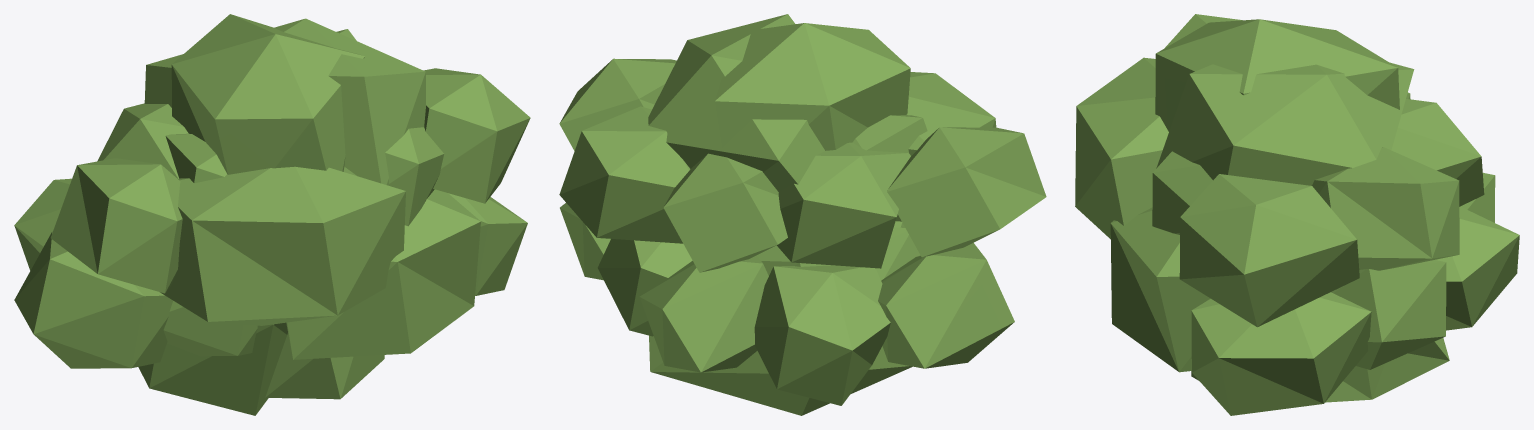
The model's file is Vegetation_Bush_Large_03.fbx.
3 renders of one model, left to right at view 1: azimuth 30°, elevation 25°; view 2: azimuth 150°, elevation 25°; view 3: azimuth 270°, elevation 25°, orthographic. The views are drawn at different scales.
Parts seen in each view (by area): view 1: Vegetation_Bush_Large_03; view 2: Vegetation_Bush_Large_03; view 3: Vegetation_Bush_Large_03.
Part boxes in pixels (left/top/right/bottom): Vegetation_Bush_Large_03: left=14, top=14, right=530, bottom=415; Vegetation_Bush_Large_03: left=559, top=14, right=1046, bottom=415; Vegetation_Bush_Large_03: left=1075, top=14, right=1519, bottom=415.
Bounding box in the file's own units: 2650 × 1926 × 2158.
